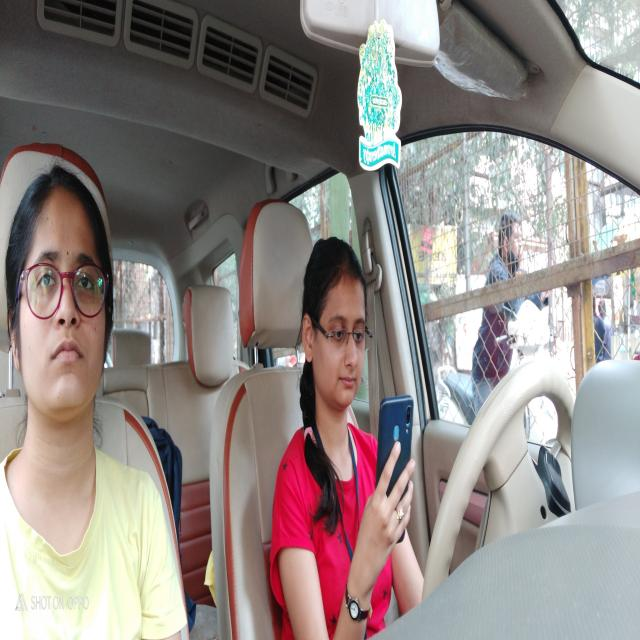mobile: (366, 368, 422, 562)
person: (3, 131, 119, 455), (296, 224, 378, 443)
